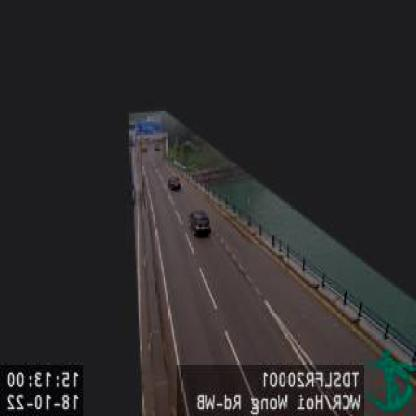Car: (190, 207, 212, 238), (167, 174, 182, 191)
